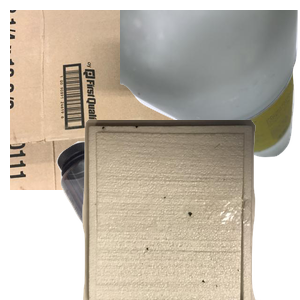cardboard: (10, 10, 250, 190)
glass: (120, 10, 300, 160)
plastic: (54, 136, 209, 300)
trash: (80, 120, 300, 300)
